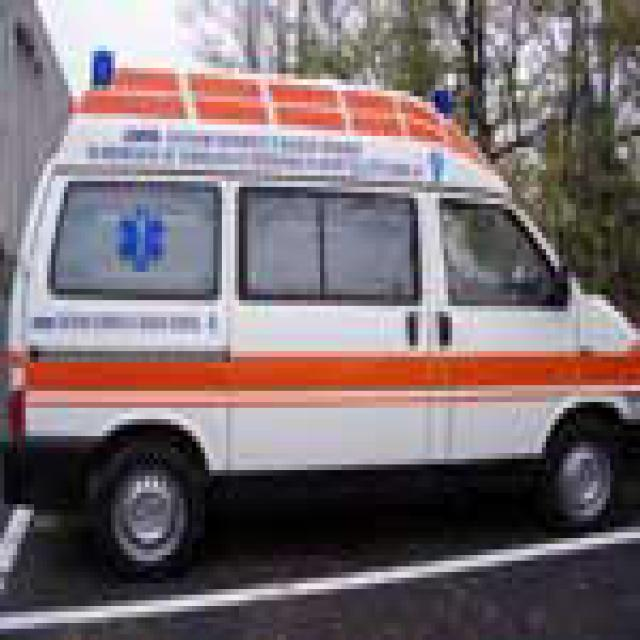emergency-vehicle: (17, 74, 636, 572)
